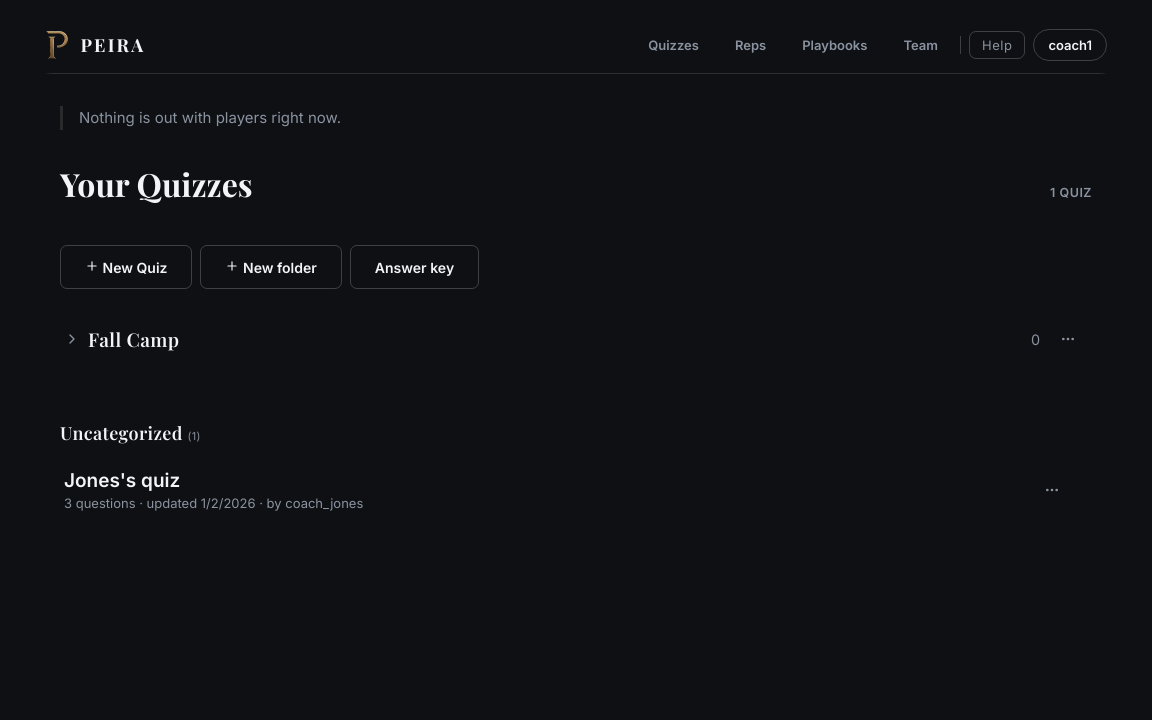
Test: DashboardPage › labels a teammate's quiz with its creator and hides the edit controls
Expected: the heading "Jones's quiz" is shown, [64, 469, 180, 492]
Expected: the text "3 questions · updated 1/2/2026 · by coach_jones" is shown, [64, 495, 363, 511]
Click the button named "Actions for Jones's quiz".
click(1052, 490)  # box [1032, 470, 1072, 510]
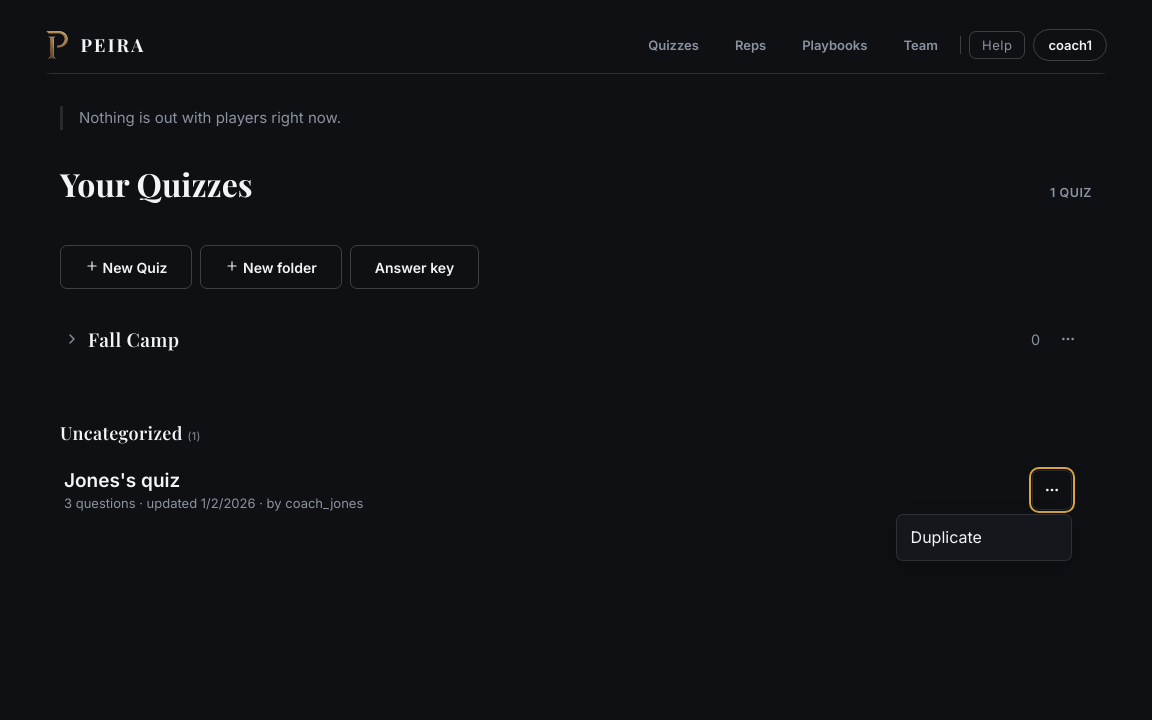
Now the menu item "Duplicate" is shown, box [901, 519, 1067, 556]
